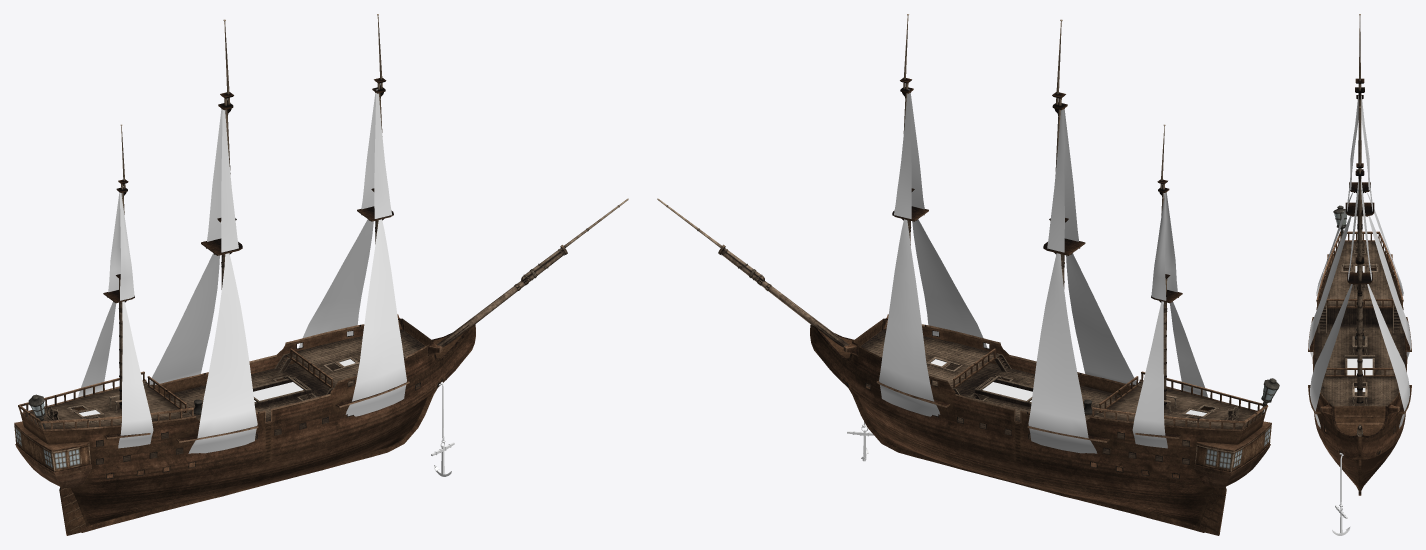
Rendered from statek_lod_01.fbx.
3 views of the same model, side by side, from view 1: azimuth 30°, elevation 25°; view 2: azimuth 150°, elevation 25°; view 3: azimuth 270°, elevation 25° (orthographic). The views are drawn at different scales.
Visible parts, largest first — view 1: statek_2_lod; view 2: statek_2_lod; view 3: statek_2_lod.
Boxes of the visible parts, x1,y1,x2,y2 form: statek_2_lod: (14, 14, 628, 535); statek_2_lod: (657, 14, 1279, 535); statek_2_lod: (1308, 14, 1411, 535).
Size of the model in its own units: 9817 by 7670 by 1667.
4 materials, 3 textured.
